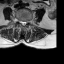CCS_stenosis: (22, 18, 24, 28)
LFS_normal: (26, 18, 28, 25)
LLS_normal: (24, 19, 26, 27)
RFS_normal: (17, 17, 20, 25)
RLS_normal: (20, 18, 22, 27)
